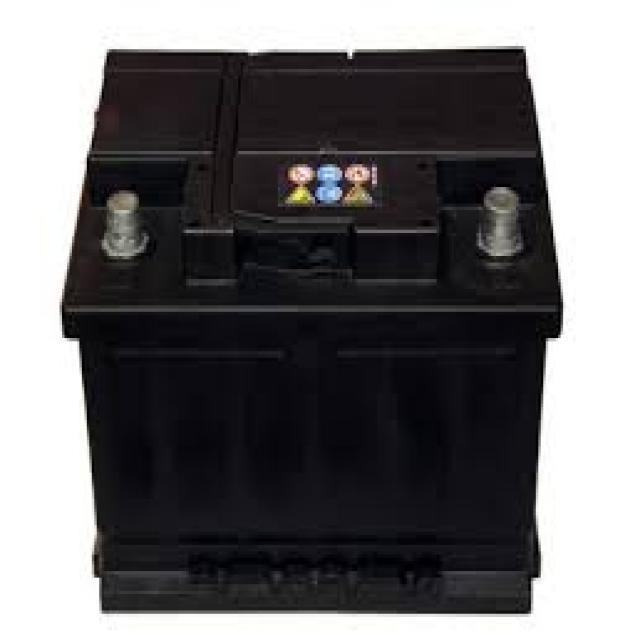battery: (62, 46, 566, 618)
